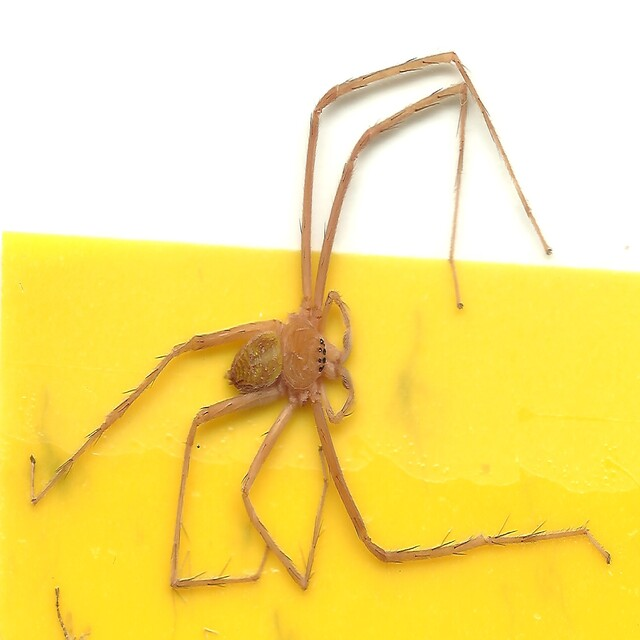Araneae: (28, 50, 612, 590)
